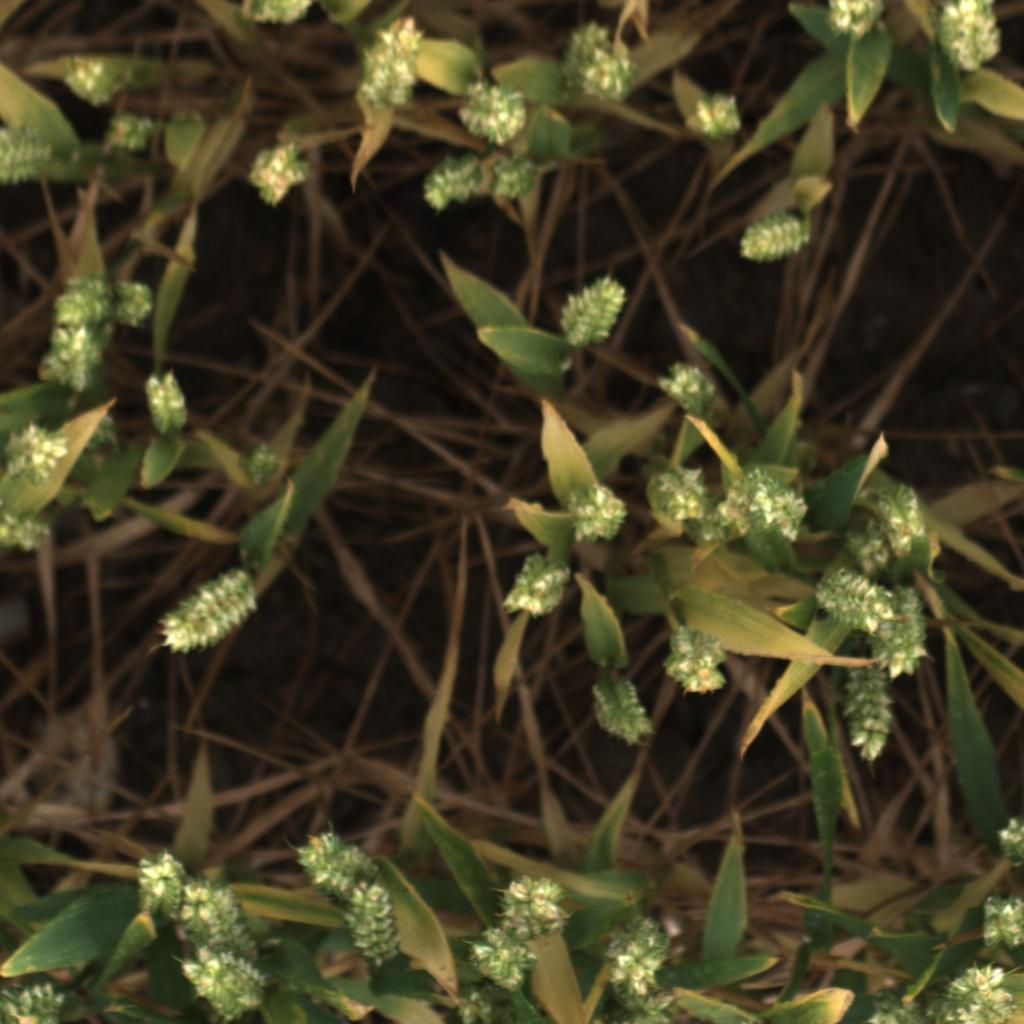0-0: (158, 565, 260, 659), (597, 910, 683, 994), (354, 12, 428, 109), (810, 561, 899, 639), (176, 947, 266, 1024), (928, 0, 1012, 81), (835, 668, 902, 766), (727, 467, 811, 545), (31, 318, 108, 402), (459, 918, 541, 991), (342, 879, 408, 969), (459, 77, 541, 149), (872, 583, 932, 681), (656, 625, 733, 701), (176, 875, 255, 949), (499, 550, 577, 624), (557, 270, 629, 349), (291, 823, 375, 888), (587, 680, 658, 750), (561, 474, 631, 544), (500, 872, 570, 940), (940, 964, 1019, 1024), (247, 134, 308, 211), (226, 429, 296, 496), (125, 846, 190, 916), (653, 356, 723, 420), (5, 419, 70, 487), (56, 49, 124, 114), (734, 211, 808, 269), (838, 507, 901, 575), (416, 152, 485, 213), (558, 18, 612, 94), (688, 89, 757, 148), (643, 463, 709, 524), (99, 102, 162, 163), (873, 478, 924, 553), (138, 367, 193, 435), (967, 886, 1024, 950), (0, 128, 55, 194), (481, 151, 543, 208), (43, 272, 109, 325), (111, 272, 166, 334), (70, 407, 135, 459), (583, 48, 636, 109), (822, 0, 893, 45), (446, 984, 525, 1024), (850, 980, 919, 1024), (594, 989, 678, 1024), (0, 508, 54, 561), (687, 496, 737, 550), (0, 982, 63, 1024), (243, 0, 313, 33), (989, 808, 1024, 868)
